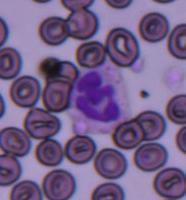N: (66, 62, 130, 134)
